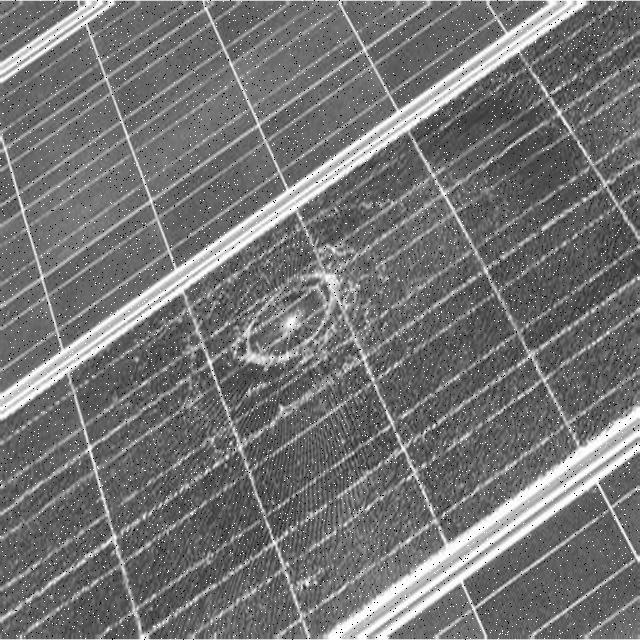physical damage: (18, 9, 640, 640)
